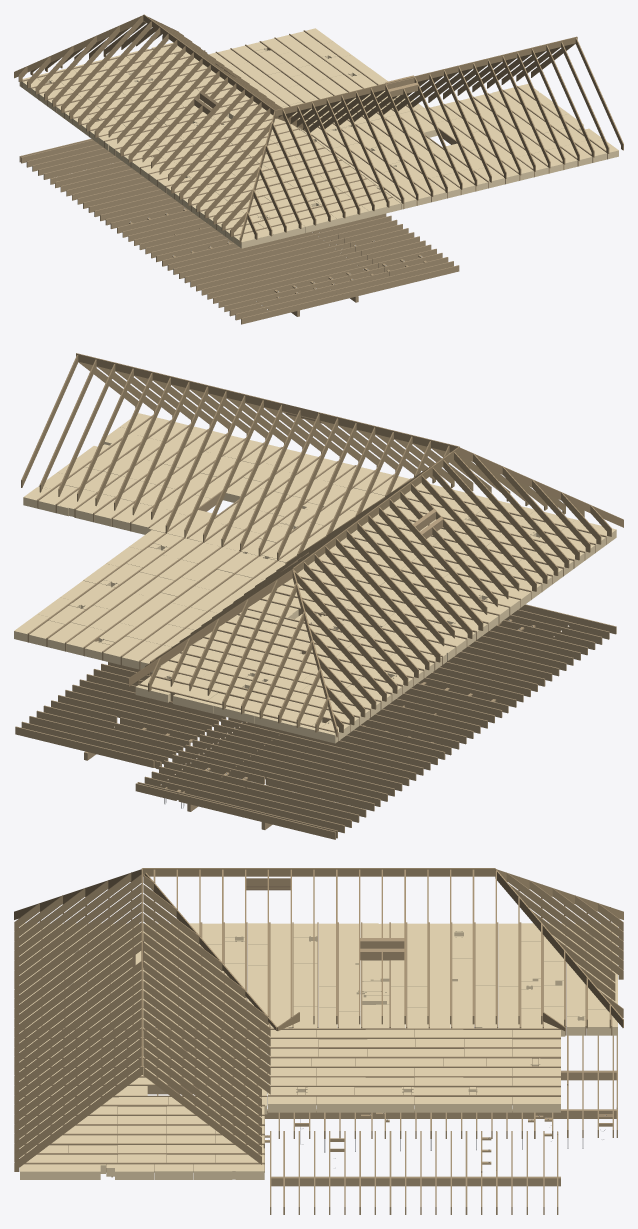
File: house_framing.glb
3 views of the same model, one above another, from view 1: azimuth 30°, elevation 25°; view 2: azimuth 150°, elevation 25°; view 3: azimuth 270°, elevation 25° (orthographic). The views are drawn at different scales.
Visible parts, largest first — view 1: attic_insulation, attic_rafters, floor_joists, attic_joists, attic_headers; view 2: attic_insulation, attic_rafters, floor_joists, attic_joists, attic_headers; view 3: attic_insulation, attic_rafters, attic_joists, floor_girders, floor_joists, attic_headers.
Boxes of the visible parts, x1,y1,x2,y2 form: attic_insulation: (19, 28, 618, 248); attic_rafters: (14, 14, 623, 243); floor_joists: (19, 138, 459, 324); attic_joists: (21, 30, 607, 242); attic_headers: (194, 63, 417, 114); attic_insulation: (14, 413, 616, 743); attic_rafters: (21, 353, 623, 737); floor_joists: (15, 604, 616, 839); attic_joists: (27, 415, 606, 741); attic_headers: (281, 403, 442, 571); attic_insulation: (20, 923, 617, 1179); attic_rafters: (14, 868, 623, 1171); attic_joists: (23, 922, 612, 1172); floor_girders: (265, 1070, 616, 1186); floor_joists: (111, 1035, 617, 1214); attic_headers: (132, 878, 404, 967).
Size of the model in its own units: 16.01 by 7.07 by 16.32.
